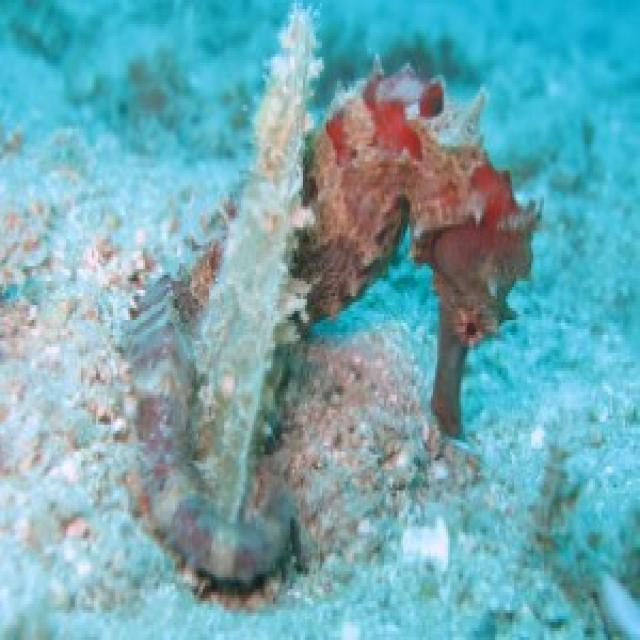Seahorse: (128, 55, 546, 619)
